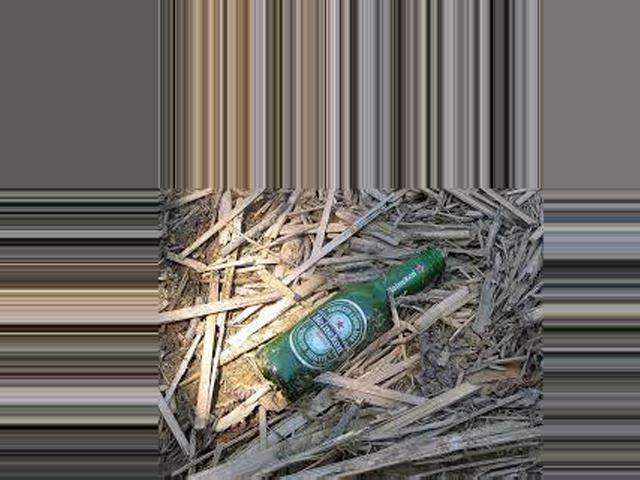beer: (256, 248, 448, 400)
